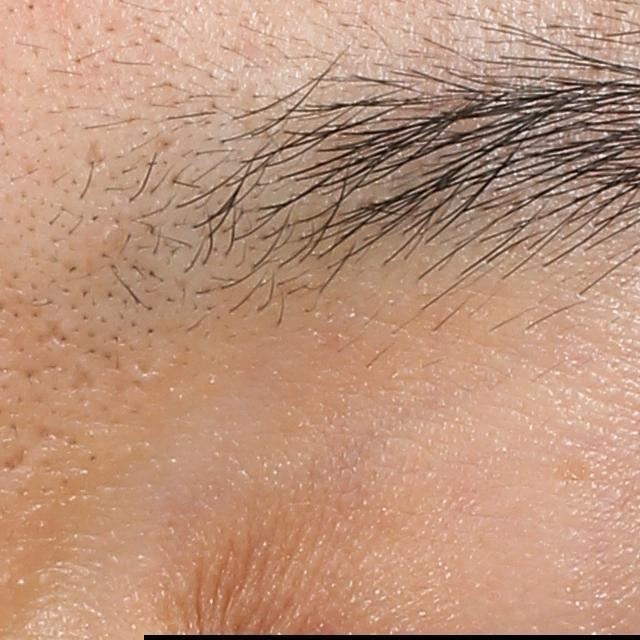atrophic_scar: (33, 315, 75, 350), (2, 446, 34, 474), (83, 139, 105, 172)
